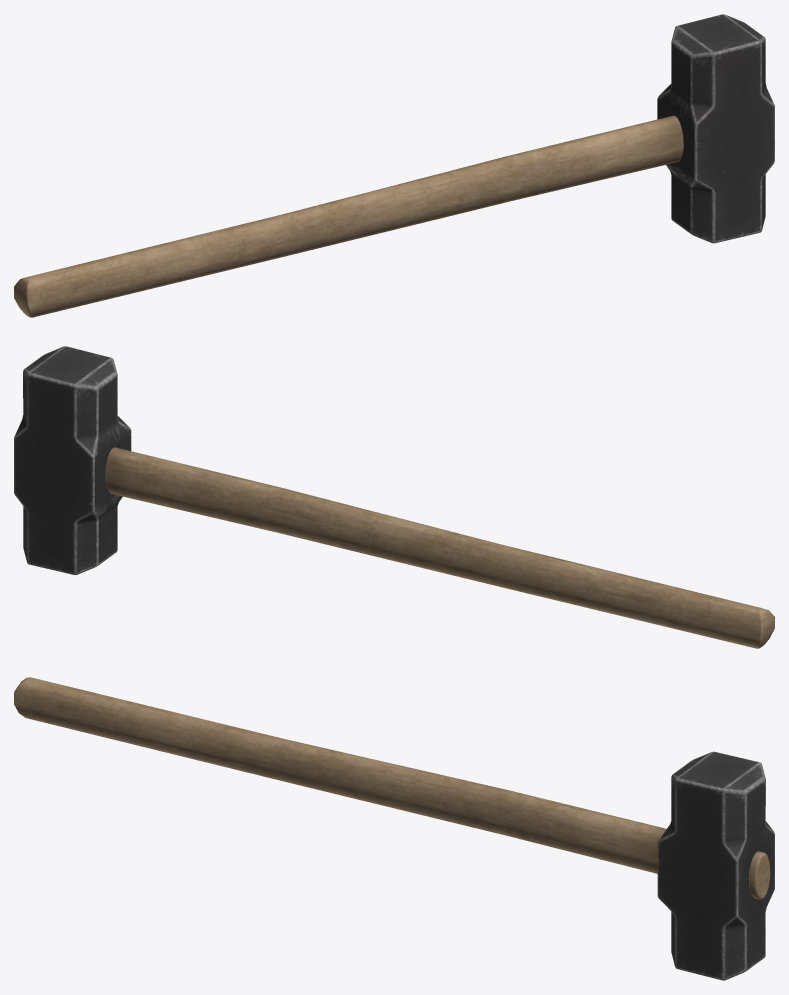
File: sledge_hammer.glb
The picture shows the model from 3 angles, top to bottom: view 1: azimuth 30°, elevation 25°; view 2: azimuth 150°, elevation 25°; view 3: azimuth 330°, elevation 25°; orthographic projection.
Parts seen in each view (by area): view 1: tool; view 2: tool; view 3: tool.
Boxes of the visible parts, x1,y1,x2,y2 form: tool: (14,14,774,317); tool: (14,346,774,648); tool: (14,677,774,980).
Bounding box in the file's own units: 0.7926 × 0.1954 × 0.0713.
1 material, 1 textured.
